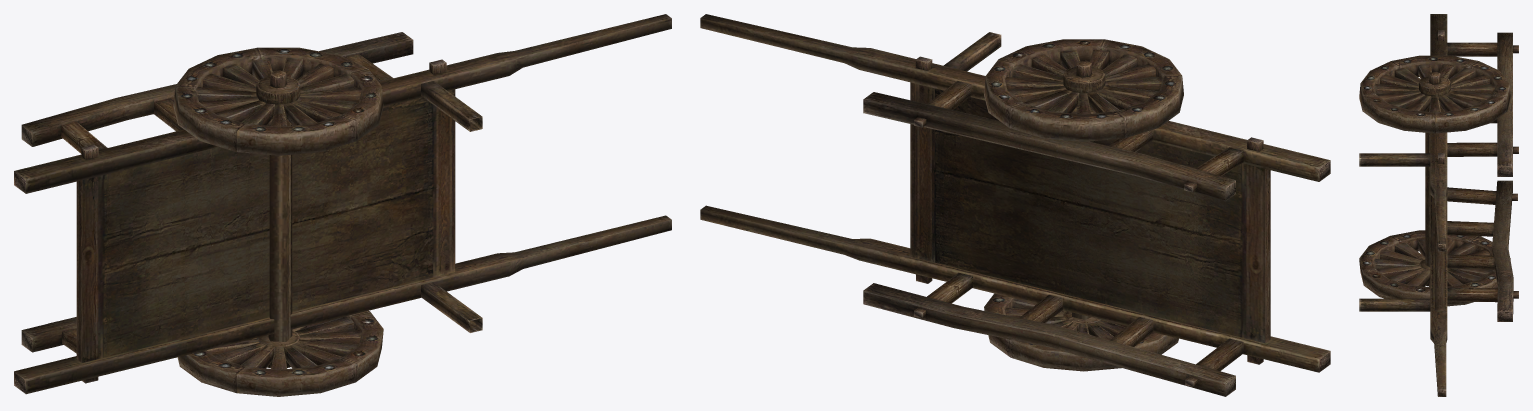
The model's file is xiaotuiche.FBX.
The picture shows the model from 3 angles, left to right: view 1: azimuth 30°, elevation 25°; view 2: azimuth 150°, elevation 25°; view 3: azimuth 270°, elevation 25°; orthographic projection. The views are drawn at different scales.
Visible parts, largest first — view 1: Mesh_0261; view 2: Mesh_0261; view 3: Mesh_0261.
Part boxes in pixels (left/top/right/bottom): Mesh_0261: left=14, top=14, right=671, bottom=396; Mesh_0261: left=700, top=14, right=1330, bottom=396; Mesh_0261: left=1359, top=14, right=1518, bottom=396.
Size of the model in its own units: 4.73 by 2.06 by 1.39.
1 material, 1 textured.
